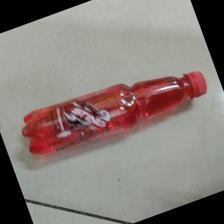Sting: (18, 68, 207, 161)
